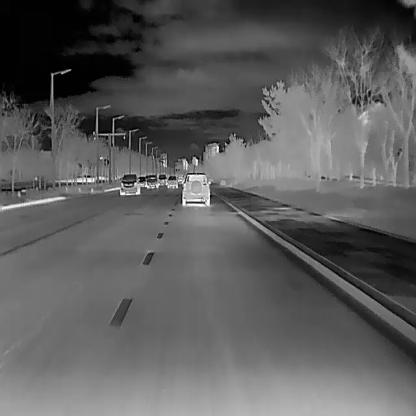car: (182, 172, 210, 206), (118, 173, 140, 194), (144, 174, 158, 188), (166, 174, 177, 188), (157, 173, 167, 185), (137, 175, 146, 186)
